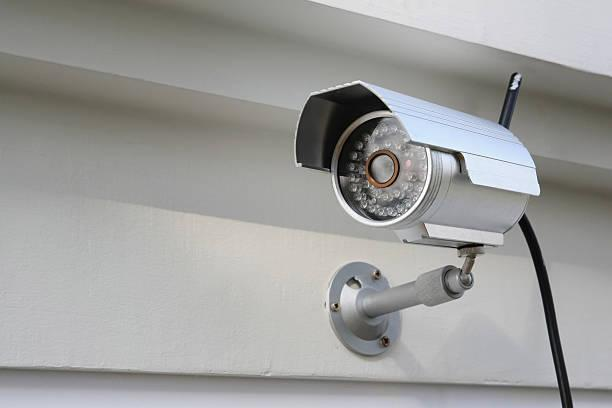camera: (281, 39, 528, 317)
